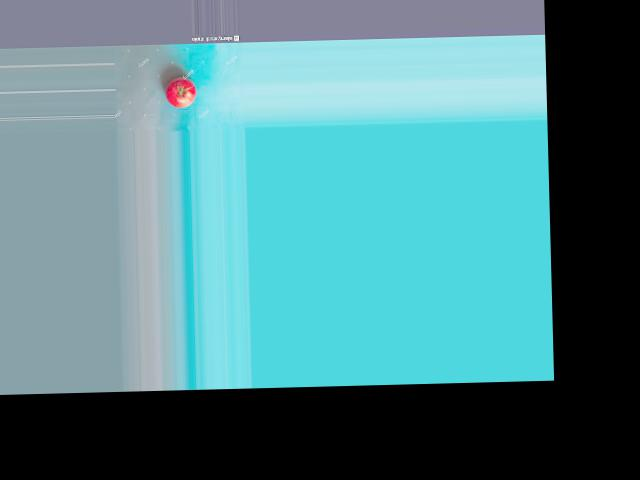tomato: (165, 76, 196, 108)
